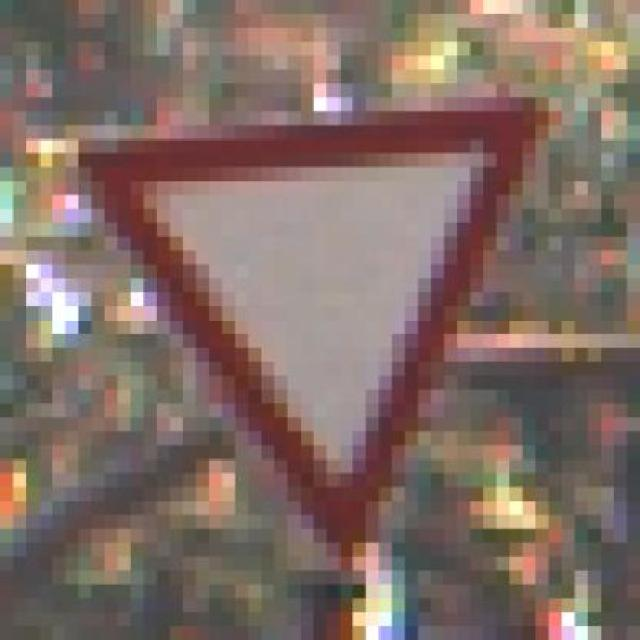Give Way: (77, 70, 548, 585)
